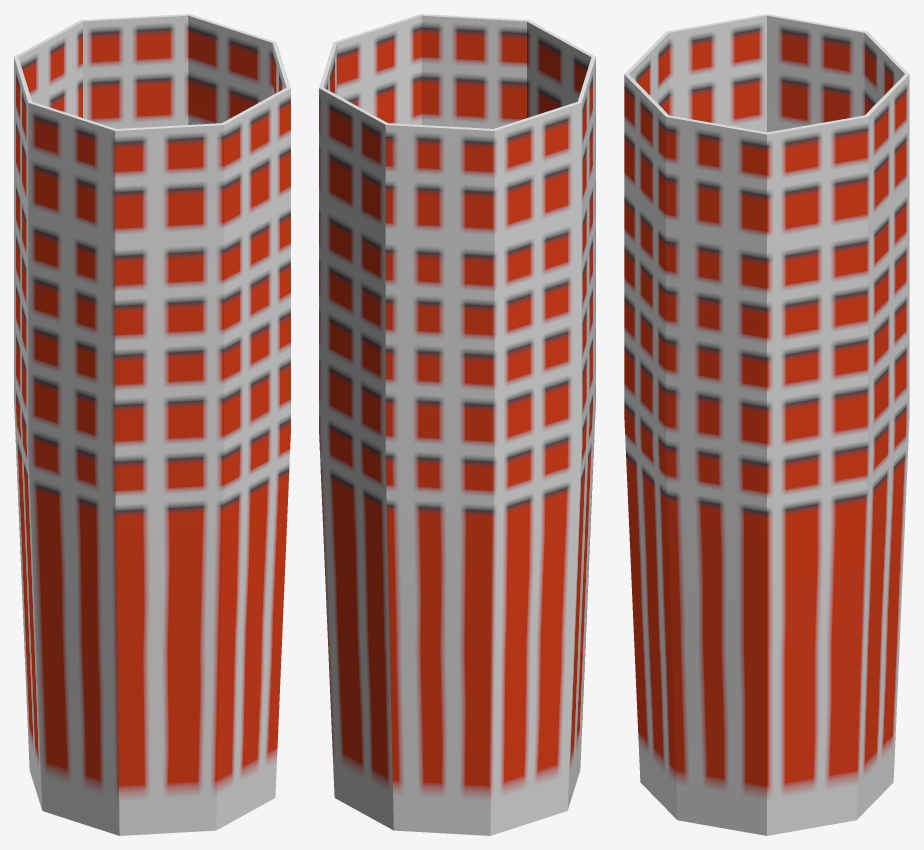
Rendered from JuiceCupBA.fbx.
The picture shows the model from 3 angles, left to right: view 1: azimuth 30°, elevation 25°; view 2: azimuth 150°, elevation 25°; view 3: azimuth 270°, elevation 25°; orthographic projection.
Visible parts, largest first — view 1: JuiceCupBA; view 2: JuiceCupBA; view 3: JuiceCupBA.
Boxes of the visible parts, x1,y1,x2,y2 form: JuiceCupBA: (14,14,290,835); JuiceCupBA: (319,14,595,835); JuiceCupBA: (624,14,909,835).
Bounding box in the file's own units: 102 × 280 × 102.
